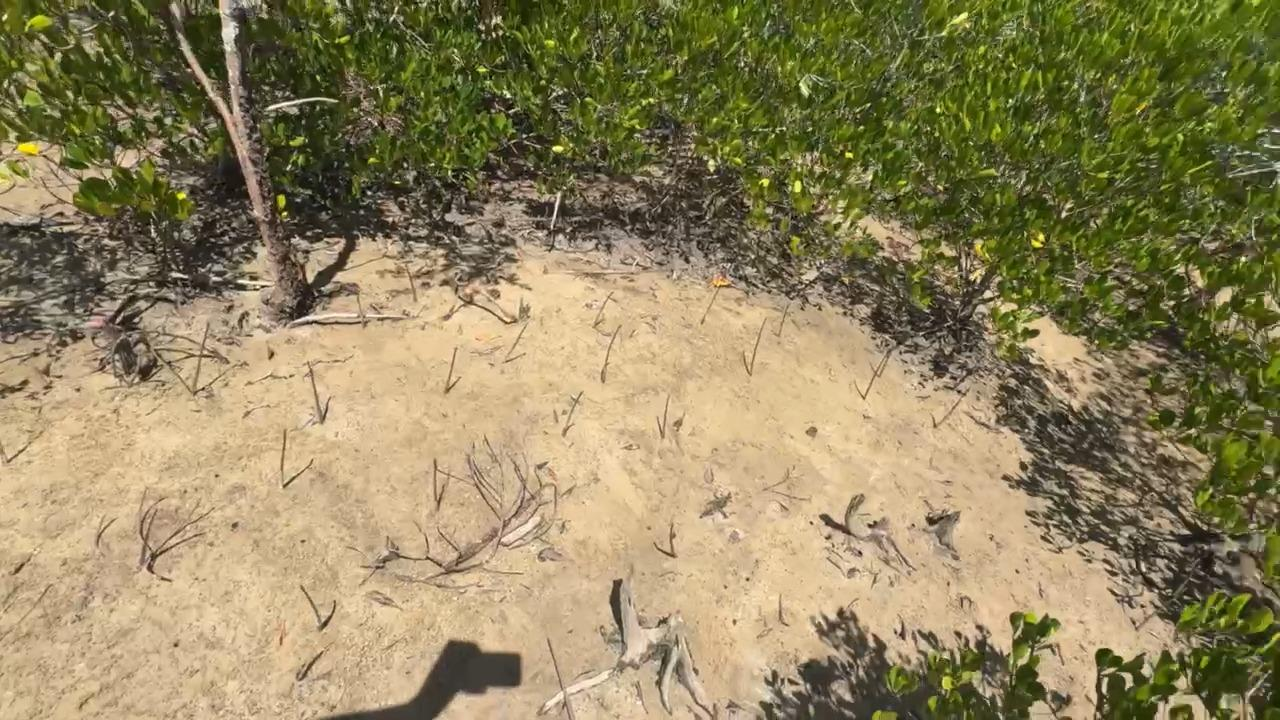Tree: (546, 633, 573, 720), (934, 387, 969, 428), (863, 349, 890, 401), (744, 318, 768, 376), (192, 320, 211, 390), (600, 324, 622, 384), (137, 506, 159, 564), (306, 361, 325, 425), (561, 389, 584, 436), (1135, 604, 1168, 632), (299, 585, 322, 625), (700, 284, 722, 325), (592, 291, 615, 329), (443, 347, 459, 394), (658, 392, 671, 438), (776, 302, 791, 336), (280, 429, 288, 488), (877, 352, 891, 379), (432, 458, 440, 503), (669, 523, 678, 555), (0, 445, 10, 466), (778, 591, 784, 622)
